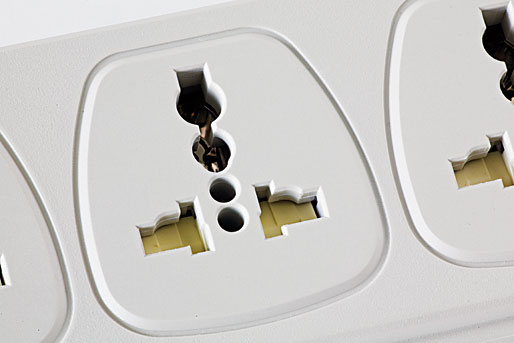Three_eye_plug: (1, 1, 514, 343)
